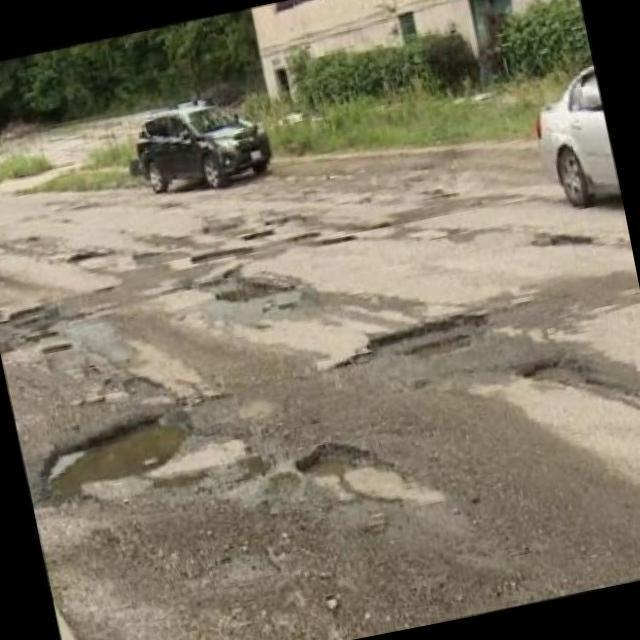Pothole: (40, 411, 195, 508), (324, 315, 505, 374), (515, 359, 640, 411), (294, 443, 386, 479)
